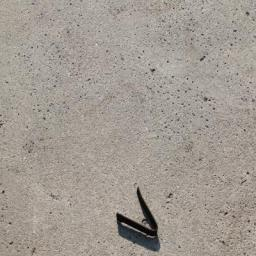FOD: (114, 186, 162, 253)
